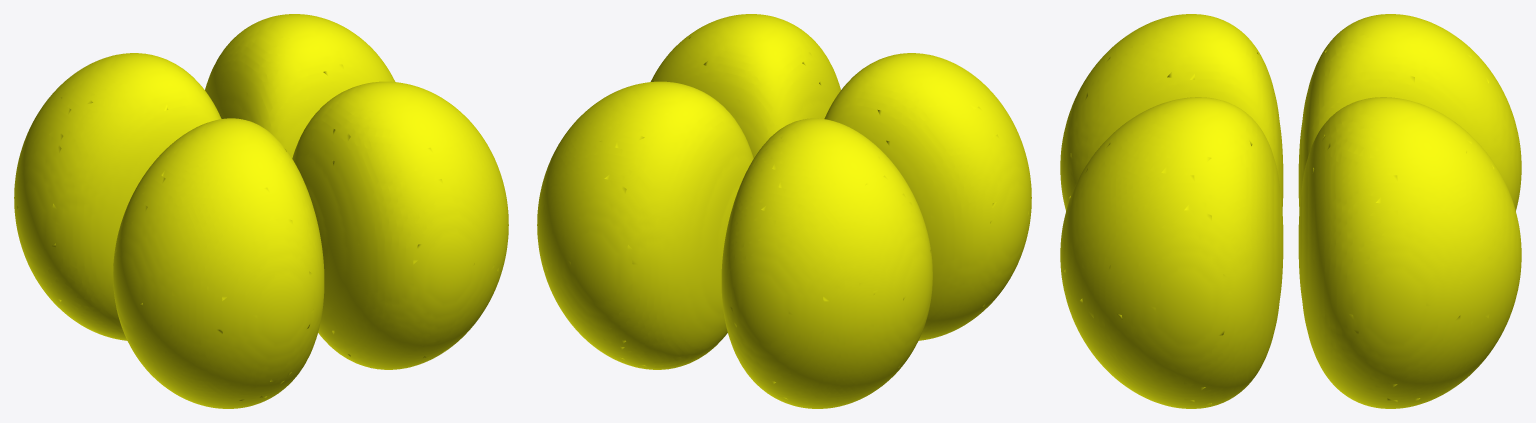
File: orb_n=3_ l=2 _m=-2.fbx
3 renders of one model, left to right at view 1: azimuth 30°, elevation 25°; view 2: azimuth 150°, elevation 25°; view 3: azimuth 270°, elevation 25°, orthographic. The views are drawn at different scales.
Parts seen in each view (by area): view 1: orb_n=3_ l=2 _m=-2; view 2: orb_n=3_ l=2 _m=-2; view 3: orb_n=3_ l=2 _m=-2.
Boxes of the visible parts, box(x1,y1,x2,y2) form: orb_n=3_ l=2 _m=-2: box(14, 14, 508, 408); orb_n=3_ l=2 _m=-2: box(537, 14, 1031, 408); orb_n=3_ l=2 _m=-2: box(1060, 14, 1521, 408).
Size of the model in its own units: 3816 by 2692 by 3816.
